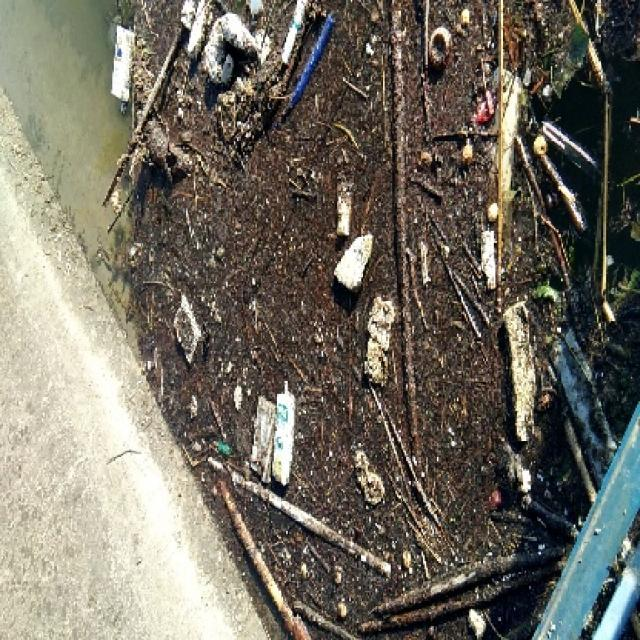Plastic: (267, 384, 305, 484), (332, 230, 384, 292), (109, 22, 134, 101)
Trash: (276, 13, 342, 129), (504, 298, 539, 443), (204, 14, 270, 83), (170, 297, 206, 365), (370, 296, 392, 386)
